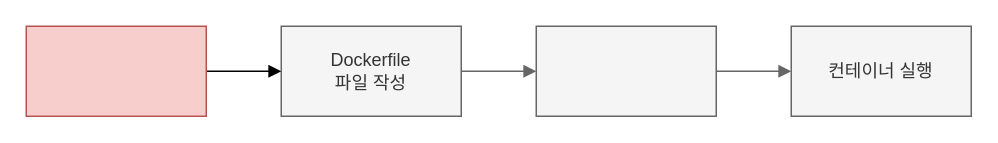
Image size: 998x143. Some labels were removed from this diagram. Here are the shapes that lost their labels. From the top down, the centre of each, then its label:
[115,70]: 디렉터리 정리
[625,70]: 이미지 빌드
